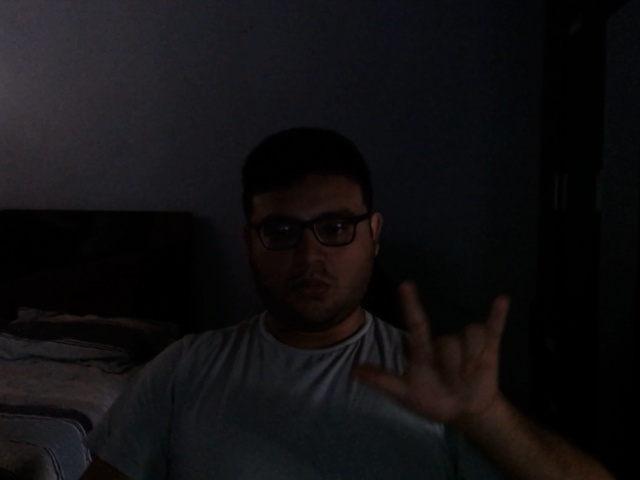I love you: (353, 279, 511, 432)
